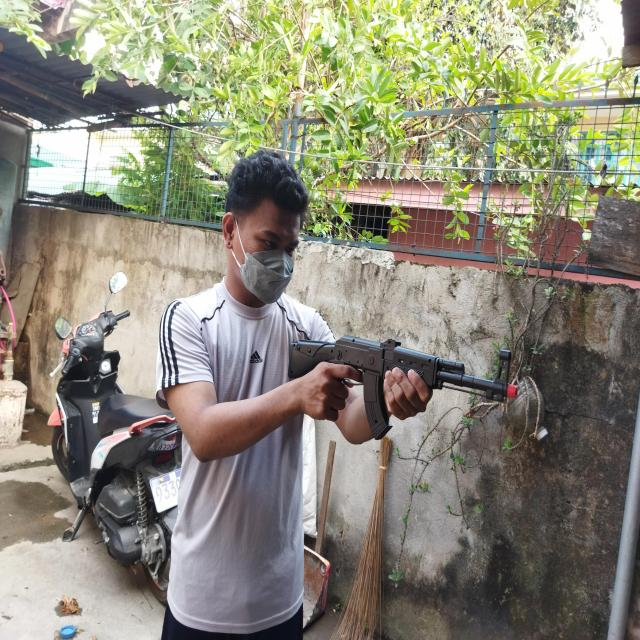rifle: (288, 330, 517, 439)
